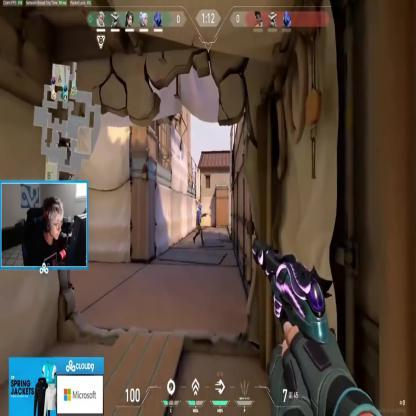enemy: (194, 202, 204, 246)
enemy_head: (198, 204, 202, 210)
